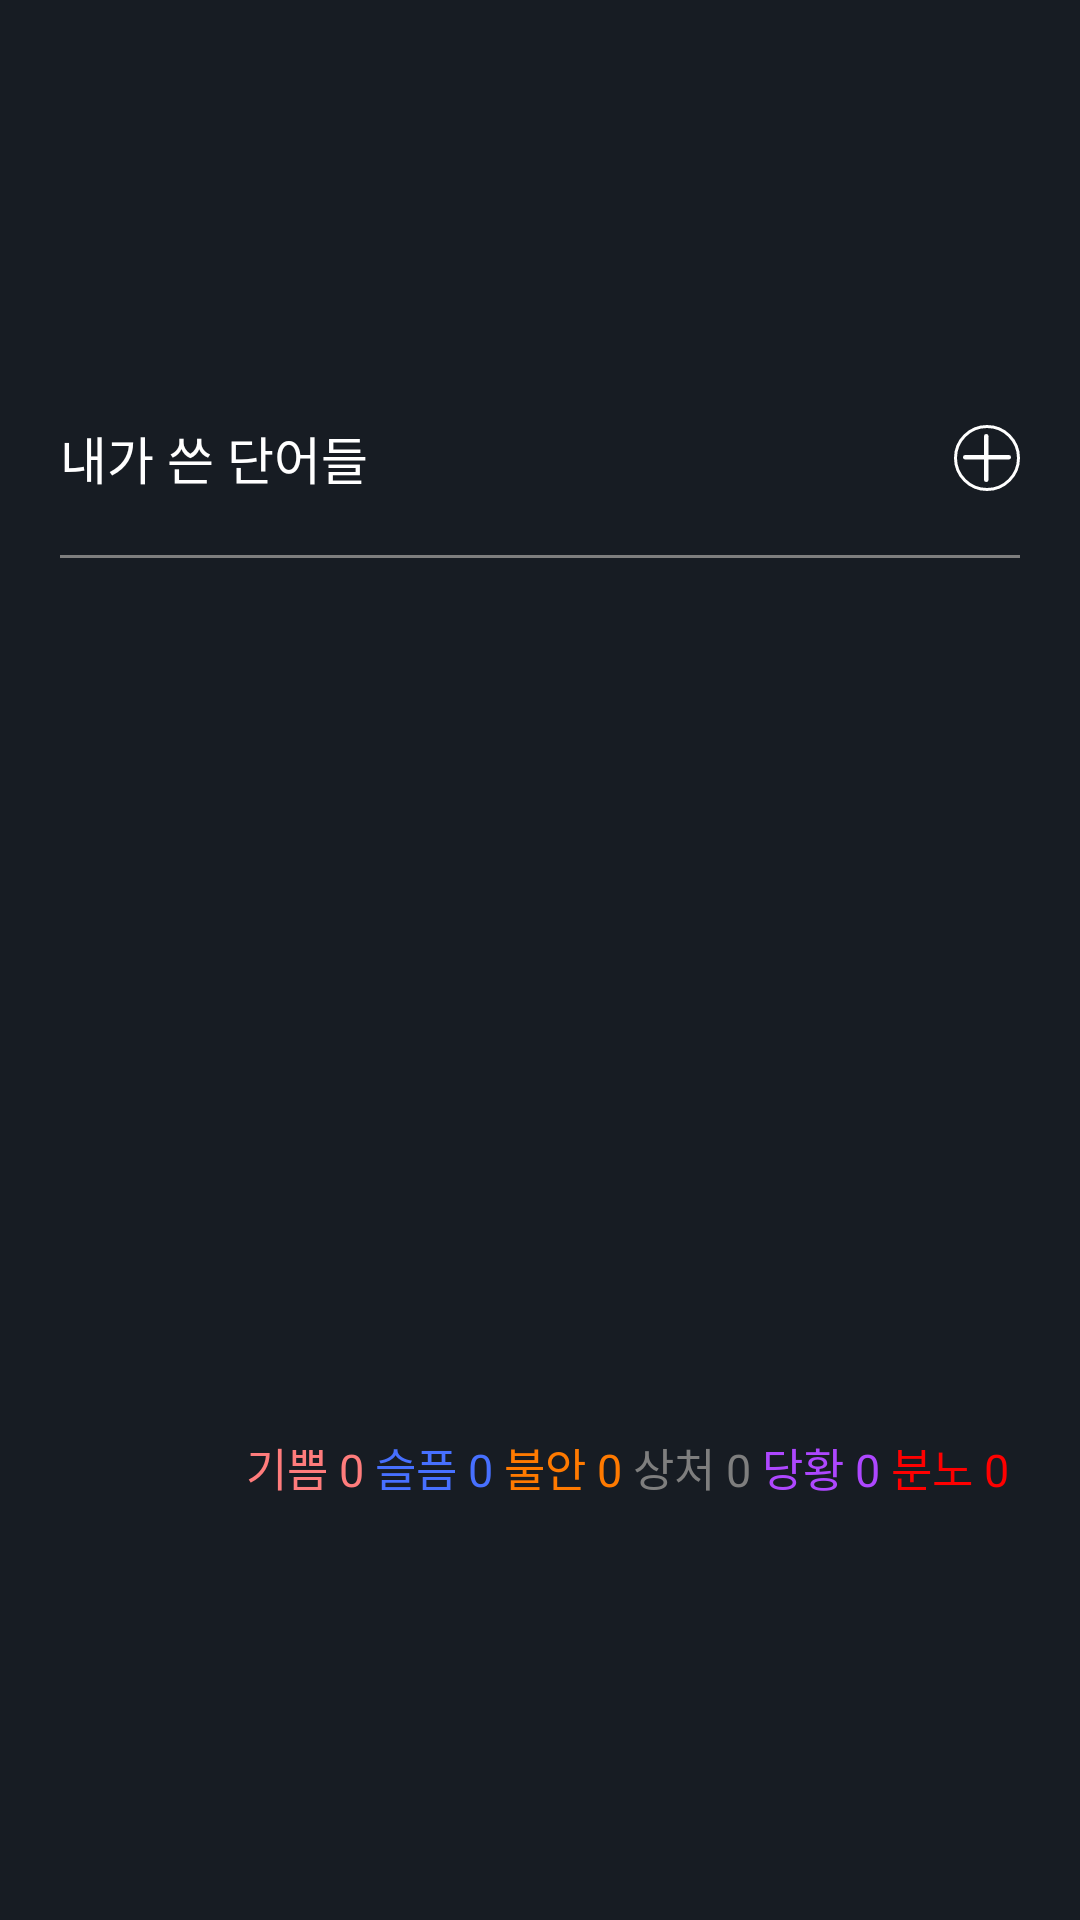

Screen size 1080px×1920px. Icon name, then its center in pixels as (x=x, y=y):
plus: (x=987, y=458)
